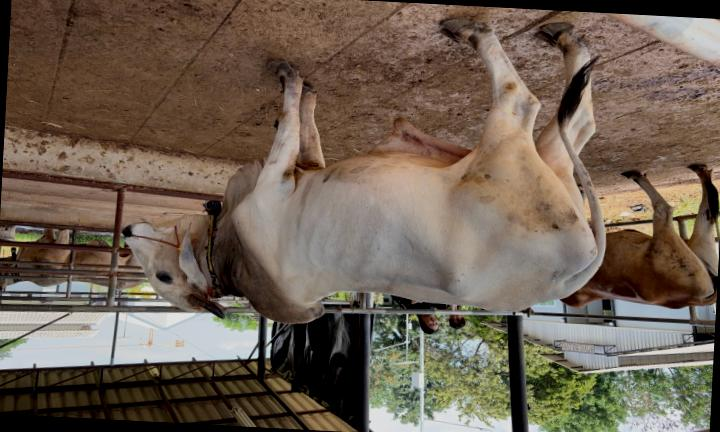Brahman: (124, 20, 605, 323)
